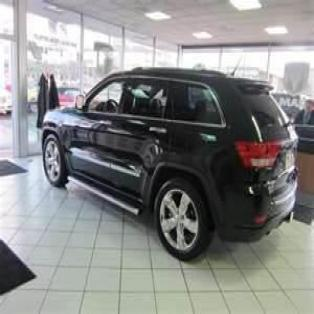Auto: (41, 66, 299, 265)
